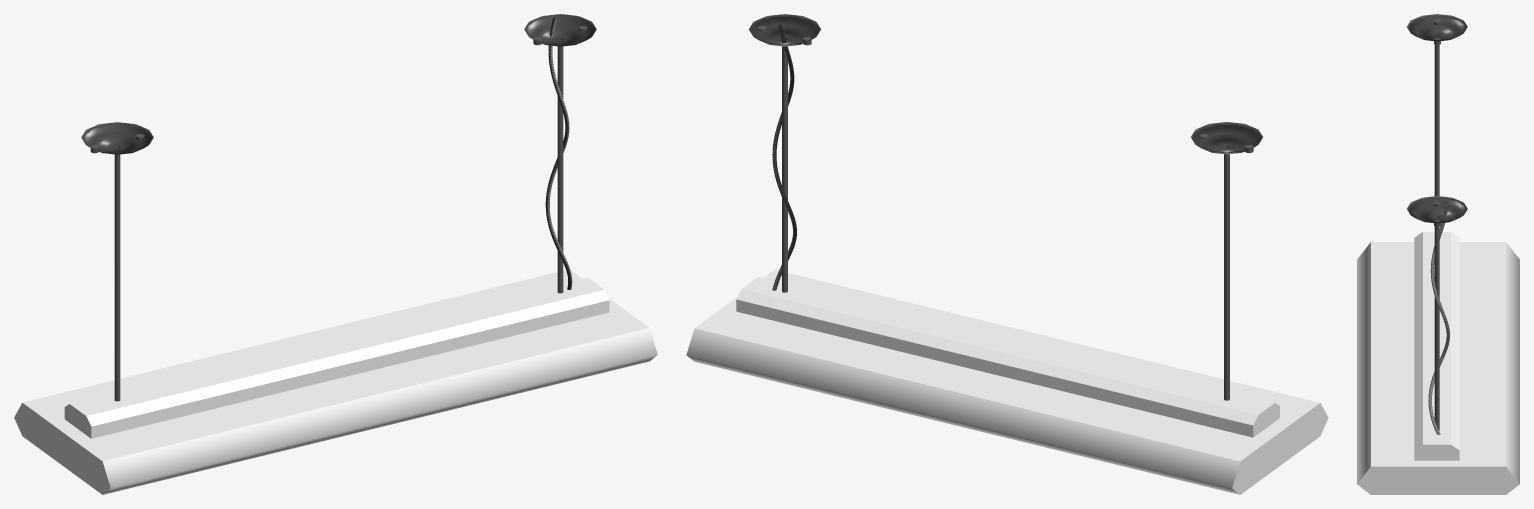
File: light.FBX
3 renders of one model, left to right at view 1: azimuth 30°, elevation 25°; view 2: azimuth 150°, elevation 25°; view 3: azimuth 270°, elevation 25°, orthographic. The views are drawn at different scales.
Visible parts, largest first — view 1: florescent; view 2: florescent; view 3: florescent.
Part boxes in pixels (x1,y1,x2,y2): florescent: (14, 14, 657, 494); florescent: (686, 14, 1328, 494); florescent: (1357, 14, 1519, 494).
Bounding box in the file's own units: 229 × 130 × 70.2.
